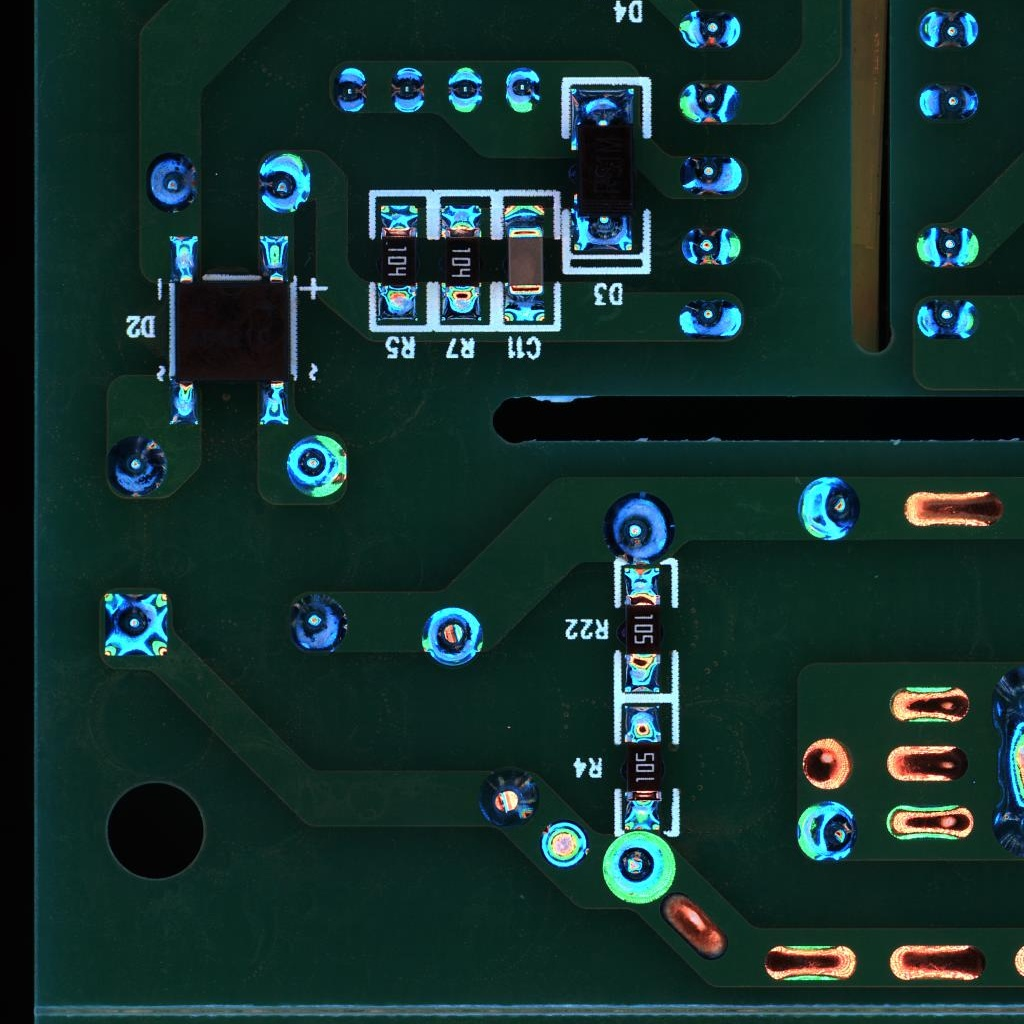spot: (600, 489, 676, 566), (602, 829, 679, 904), (100, 591, 171, 661), (796, 473, 862, 546), (104, 431, 169, 496), (284, 433, 350, 497), (476, 765, 539, 832), (794, 798, 856, 866), (419, 606, 484, 666), (288, 593, 349, 656), (256, 150, 314, 214), (145, 150, 200, 213), (913, 296, 983, 342), (676, 297, 744, 343), (679, 223, 745, 269), (678, 153, 745, 197), (679, 82, 744, 126), (675, 10, 742, 50), (916, 224, 978, 267), (917, 7, 979, 48), (917, 82, 979, 123), (540, 821, 588, 869), (502, 65, 542, 117), (447, 63, 482, 115), (391, 66, 427, 114), (333, 66, 367, 115)
